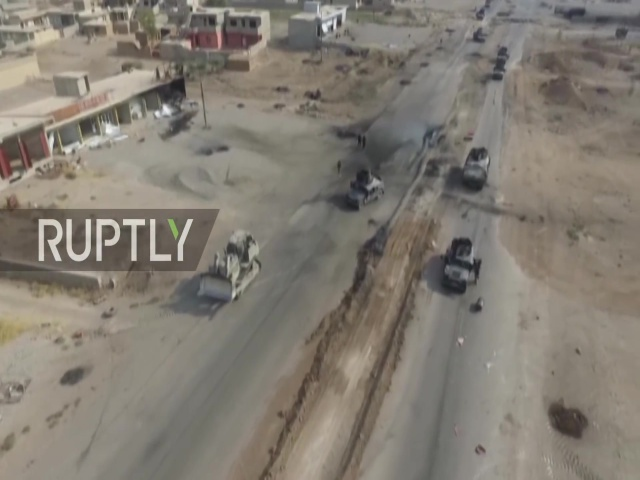vehicle: (197, 231, 262, 302), (440, 237, 477, 294), (344, 171, 385, 210), (460, 146, 491, 190), (490, 61, 507, 82)
